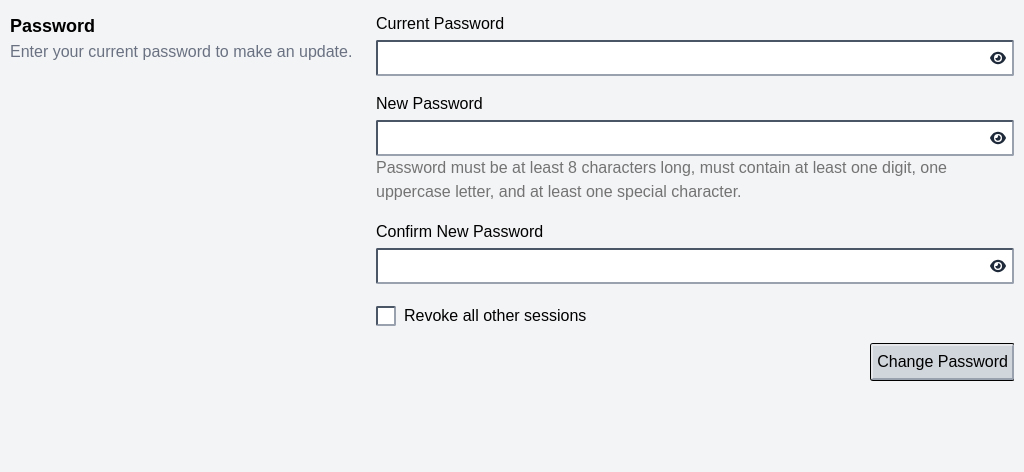
Change/Set Password Form › should show an error in the change password form if passwords do not match
In the password field with test id "change-password_input-password_current-password": [695, 58] box [376,40,1014,76], type "Password123!"
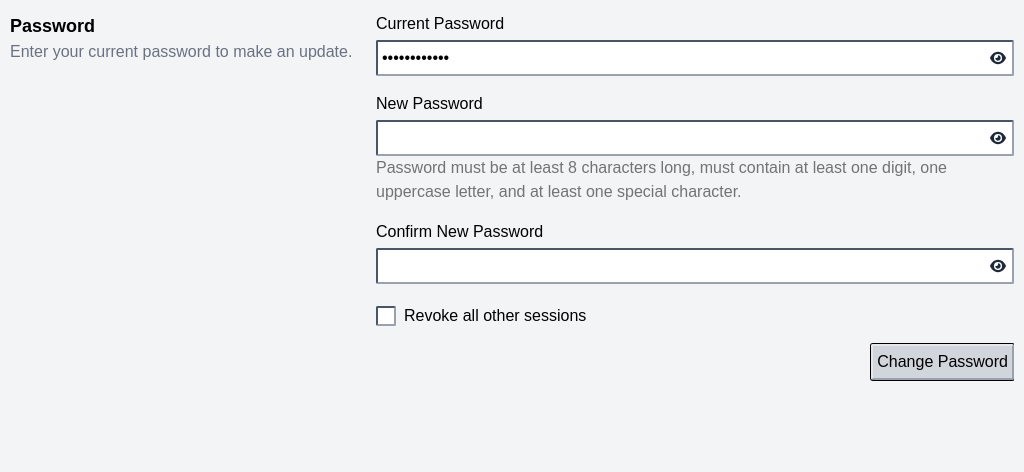
In the password field with test id "change-password_input-password_new-password": [695, 138] box [376,120,1014,156], type "Password1234!"
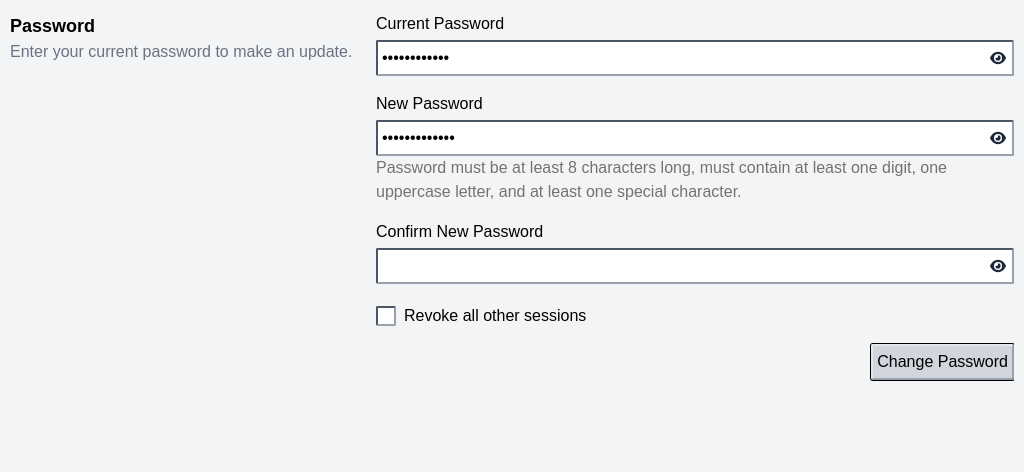
In the password field with test id "change-password_input-password_confirm-new-password": [695, 266] box [376,248,1014,284], type "Password12345!"
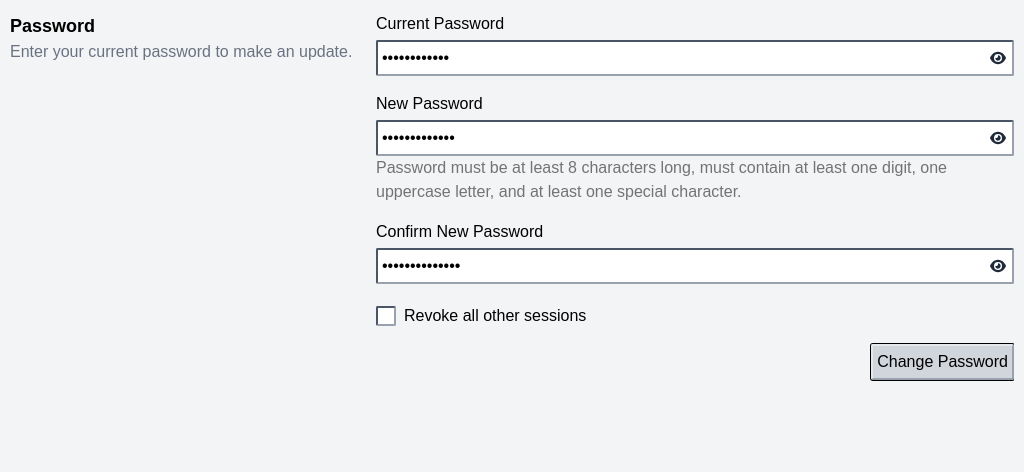
Click the button "Change Password": [943, 362] box [871,344,1014,380]
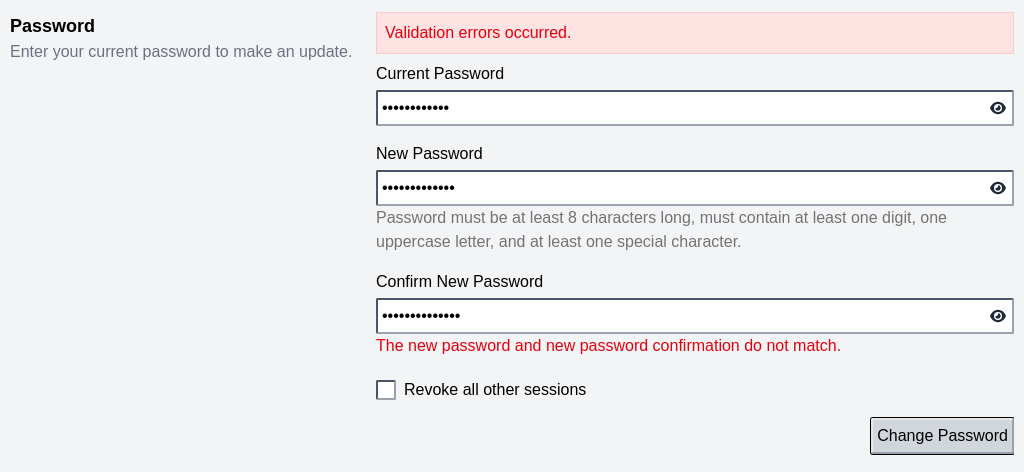
expect the text "The new password and new password confirmation do not match." is shown: met, box [376,337,841,354]
